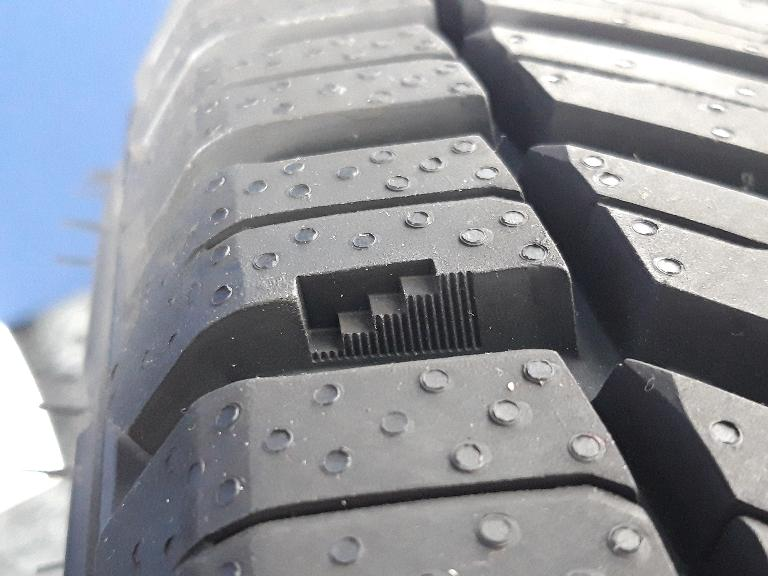temoin:100: (285, 253, 491, 374)
